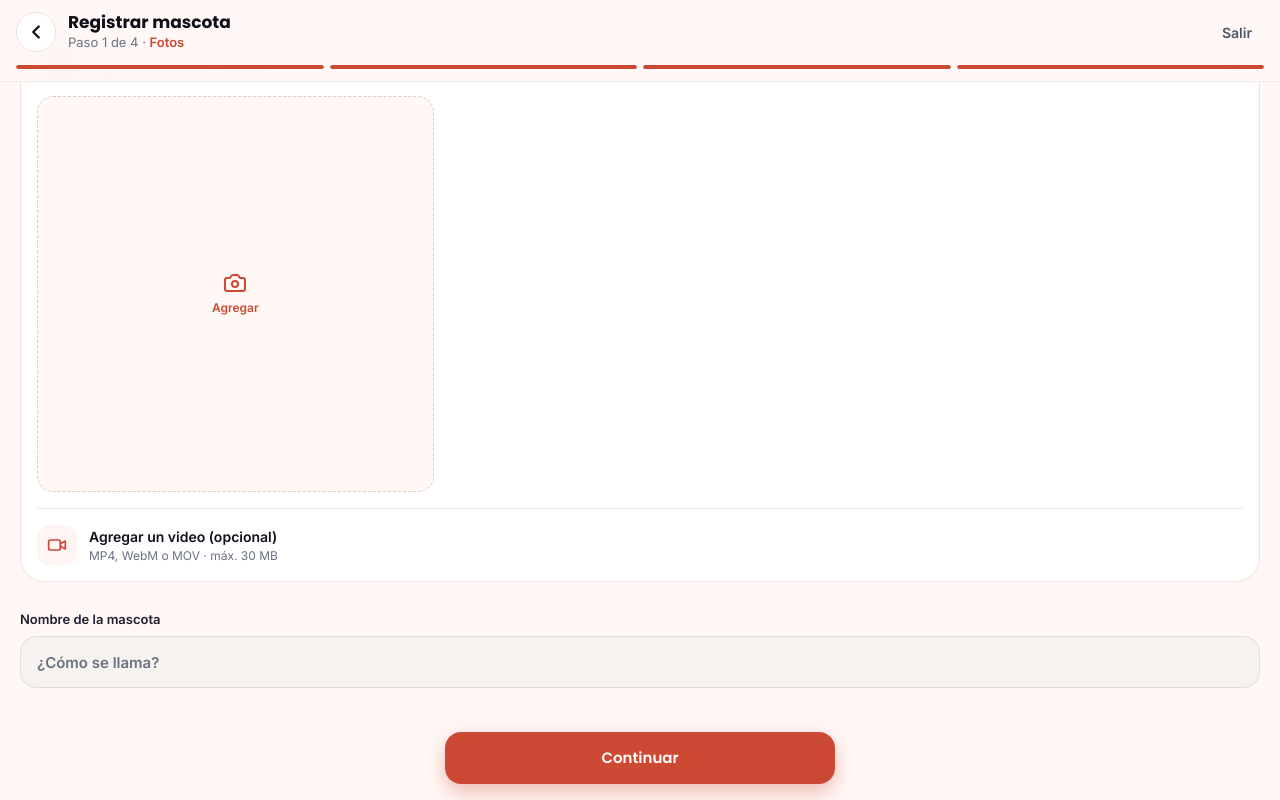
Test: Sprint 2 — MascotaForm (DoD) › Avanza al paso 2 cuando el nombre es válido
(page scrolled)
In the field with placeholder "¿Cómo se llama?": (640, 662) [20, 636, 1260, 688], type "Firulais"
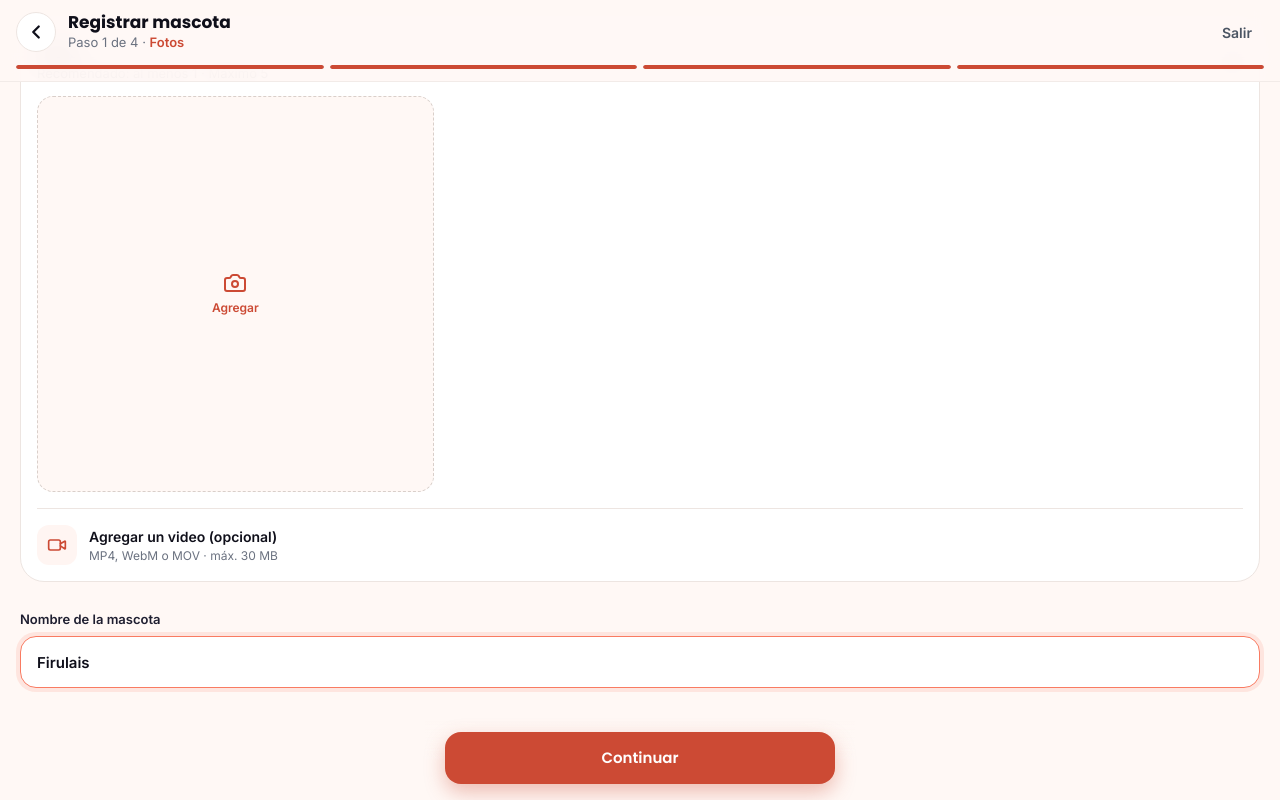
Click the button with test id "btn-siguiente": (640, 758) [445, 732, 835, 784]
(page scrolled)
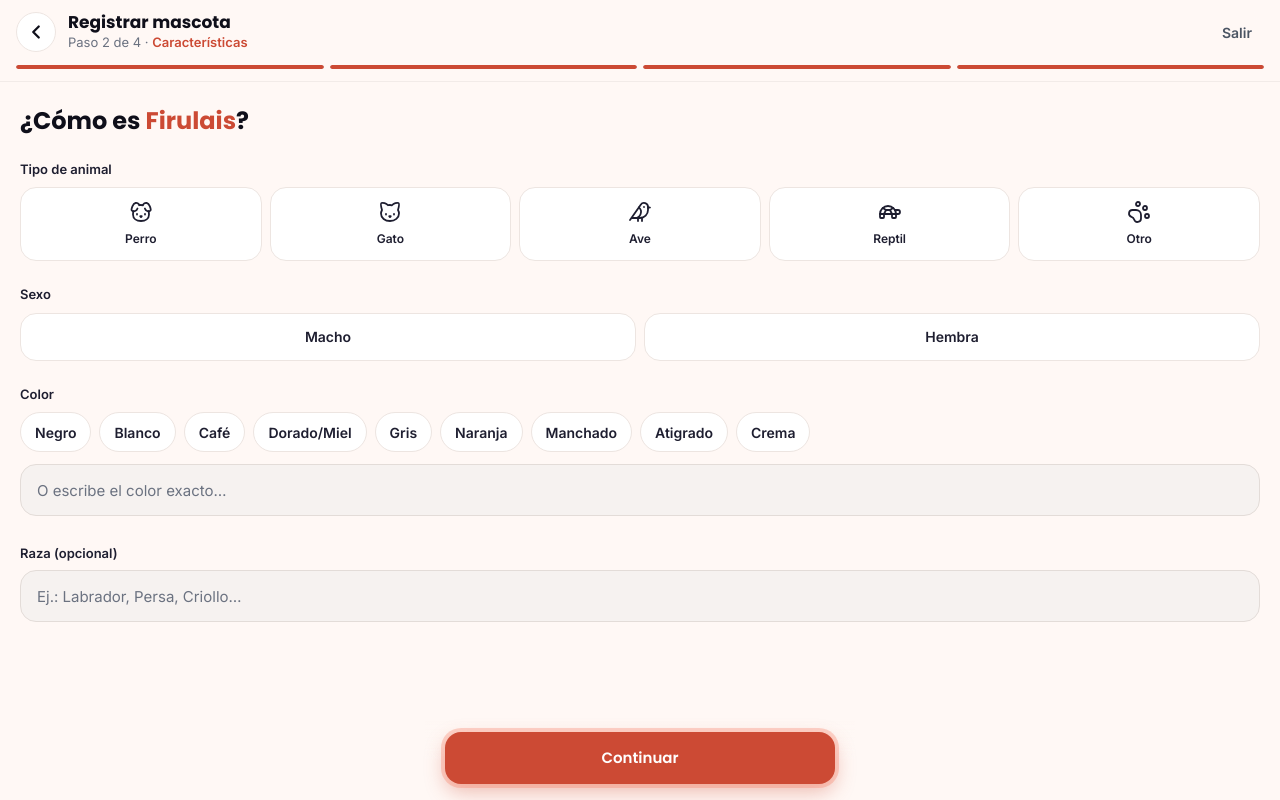
Check: the element with test id "paso-2" is shown
